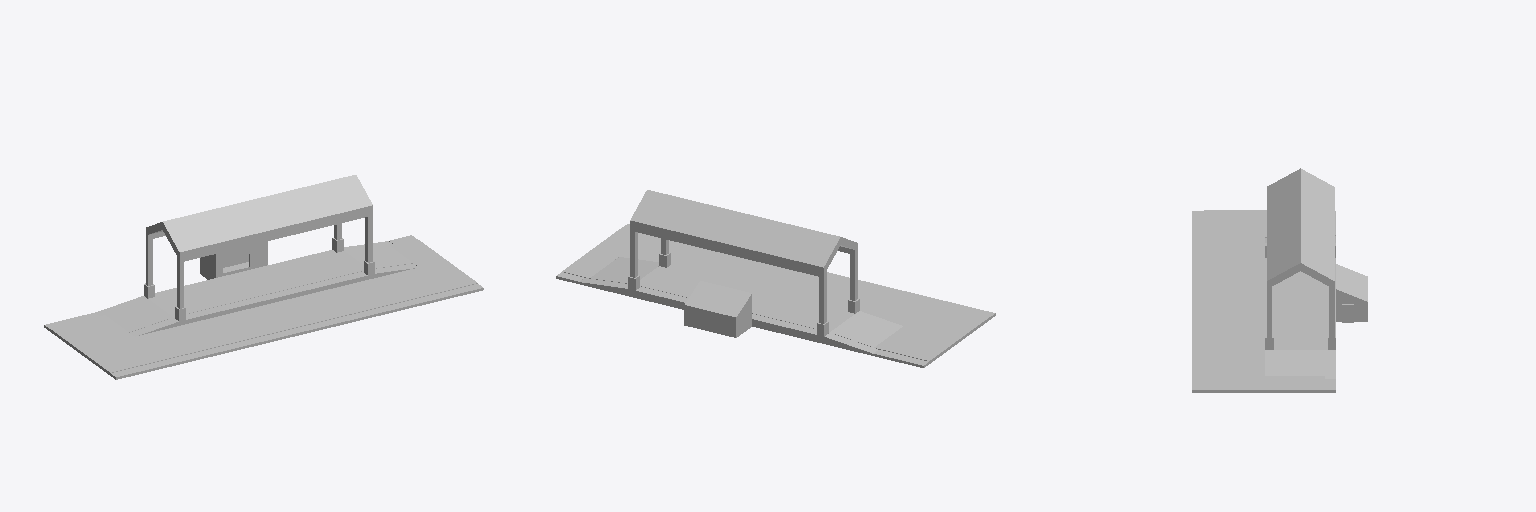
File: Timbangan Assembly.obj
3 views of the same model, side by side, from view 1: azimuth 30°, elevation 25°; view 2: azimuth 150°, elevation 25°; view 3: azimuth 270°, elevation 25° (orthographic).
Visible parts, largest first — view 1: Solid1, Solid1:1; view 2: Solid1, Solid1:1; view 3: Solid1, Solid1:1.
Boxes of the visible parts, x1=… form: Solid1: x1=44, y1=235, x2=483, y2=379; Solid1:1: x1=144, y1=175, x2=374, y2=322; Solid1: x1=556, y1=224, x2=995, y2=367; Solid1:1: x1=628, y1=190, x2=859, y2=337; Solid1: x1=1192, y1=210, x2=1367, y2=392; Solid1:1: x1=1265, y1=168, x2=1335, y2=349.
Bounding box in the file's own units: 2953 × 722 × 1220.